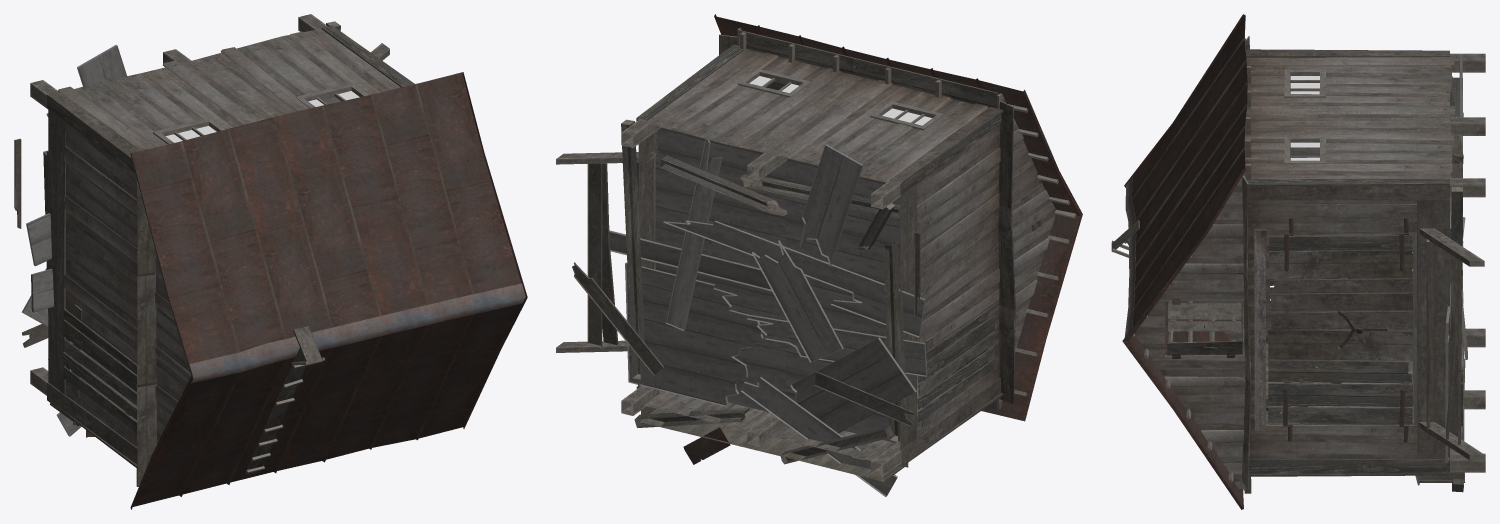
File: hd_bld_SU_129_TownShed_03.glb
The picture shows the model from 3 angles, left to right: view 1: azimuth 30°, elevation 25°; view 2: azimuth 150°, elevation 25°; view 3: azimuth 270°, elevation 25°; orthographic projection. The views are drawn at different scales.
Visible parts, largest first — view 1: set_0_group_2, set_0_group_0; view 2: set_0_group_2, set_0_group_0, set_0_group_1; view 3: set_0_group_2, set_0_group_0, set_0_group_1.
Boxes of the visible parts, x1,y1,x2,y2 form: set_0_group_2: (32, 15, 527, 509); set_0_group_0: (14, 14, 340, 437); set_0_group_2: (556, 14, 1082, 481); set_0_group_0: (572, 119, 927, 496); set_0_group_1: (749, 76, 931, 125); set_0_group_2: (1111, 14, 1484, 509); set_0_group_0: (1444, 53, 1485, 492); set_0_group_1: (1290, 76, 1319, 160).
Size of the model in its own units: 5.92 by 5.78 by 5.28.
Materials: 3 (2 with a texture image).
